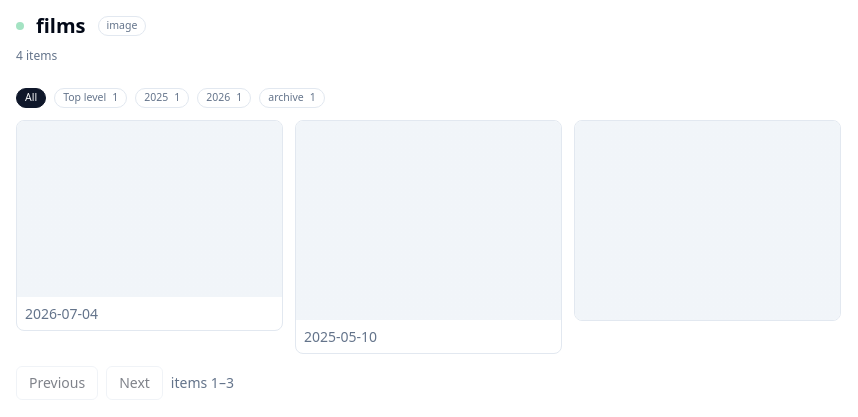
Scenario: Collection — image body (box 5.3) › renders the folder chip row from the folders endpoint and filters server-side; All resets
The width and height of the screenshot is (858, 417).
Expected: the link named "Open beach" is shown, [16, 120, 283, 332]
Expected: the link named "Open alps" is shown, [295, 120, 562, 354]
Click the button "2026 1".
click(224, 98)  # box [197, 88, 251, 108]
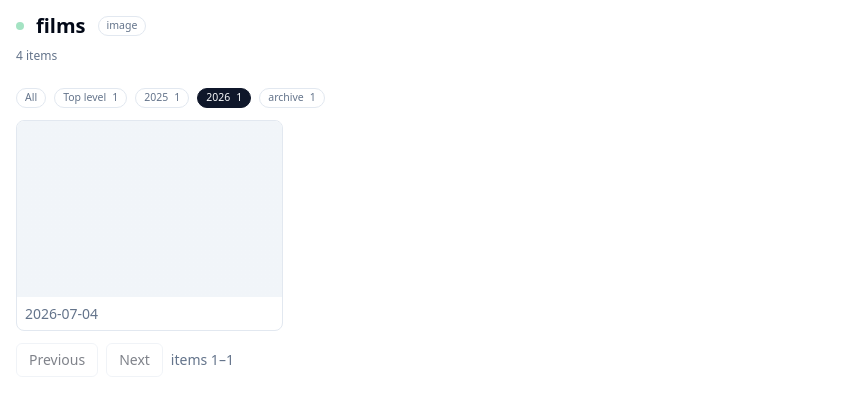
Expected: the link named "Open beach" is shown, [16, 120, 283, 332]
Click the button "Top level 1".
click(91, 98)  # box [54, 88, 127, 108]
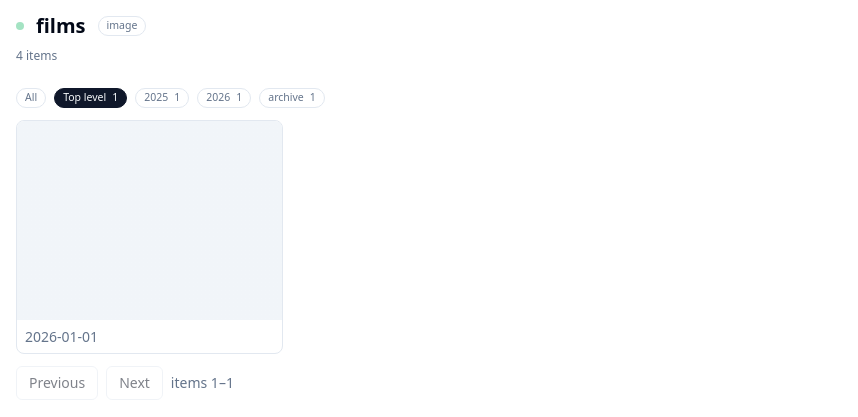
Result: the link named "Open root" is shown at [16, 120, 283, 354]
All resets to the unfiltered stream.
Click the button "All".
click(31, 98)  # box [16, 88, 46, 108]
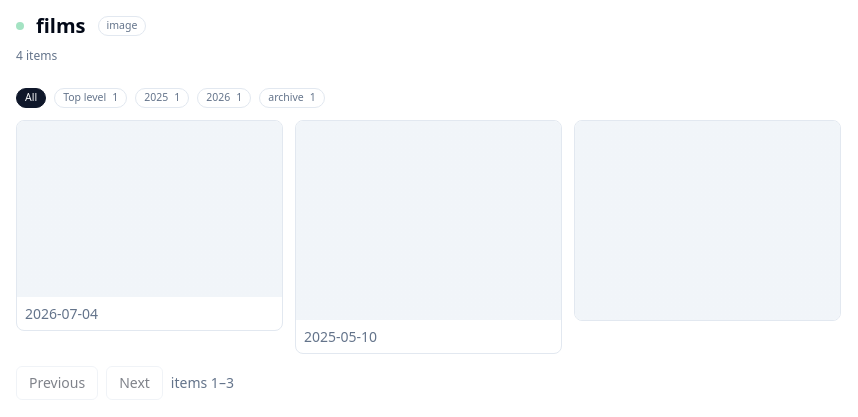
Result: the link named "Open alps" is shown at [295, 120, 562, 354]
Result: the link named "Open scan" is shown at [574, 120, 841, 321]
